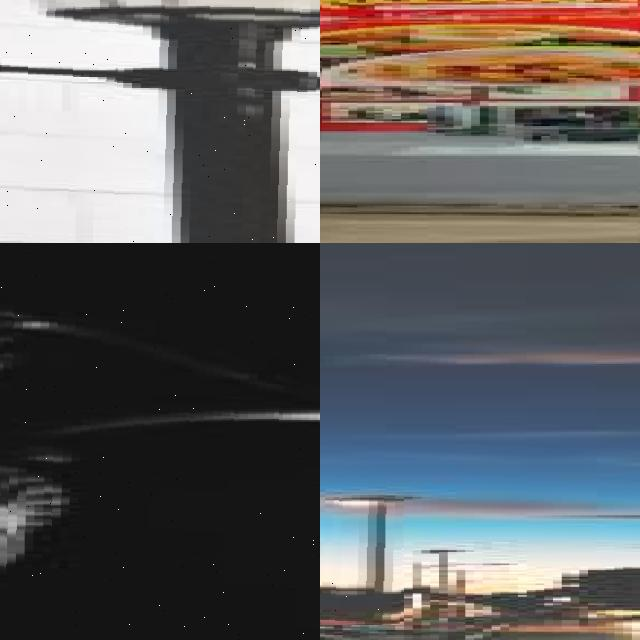street light: (0, 243, 320, 640), (0, 0, 320, 243), (320, 495, 403, 625), (413, 563, 535, 621), (448, 578, 526, 622)
